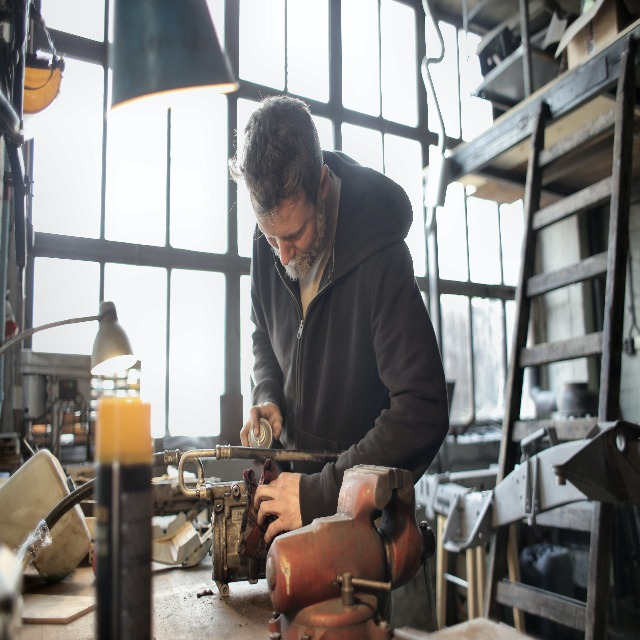Sin_guantes: (253, 470, 303, 545), (239, 401, 283, 447)
